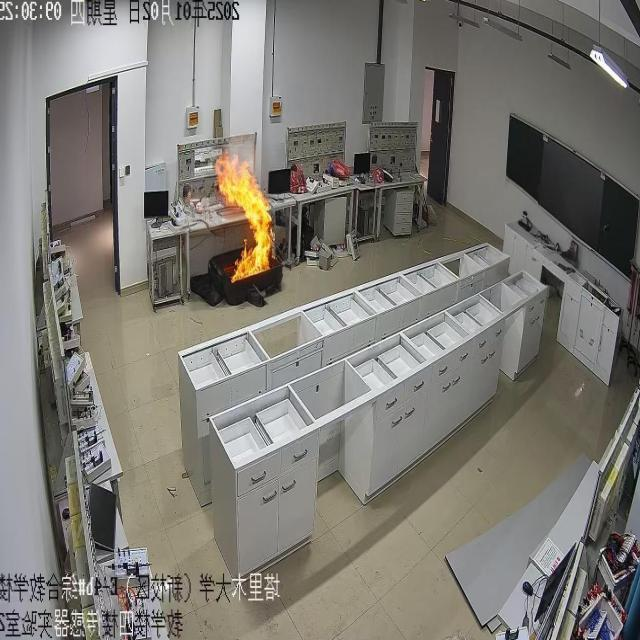smoke: (218, 150, 275, 284)
